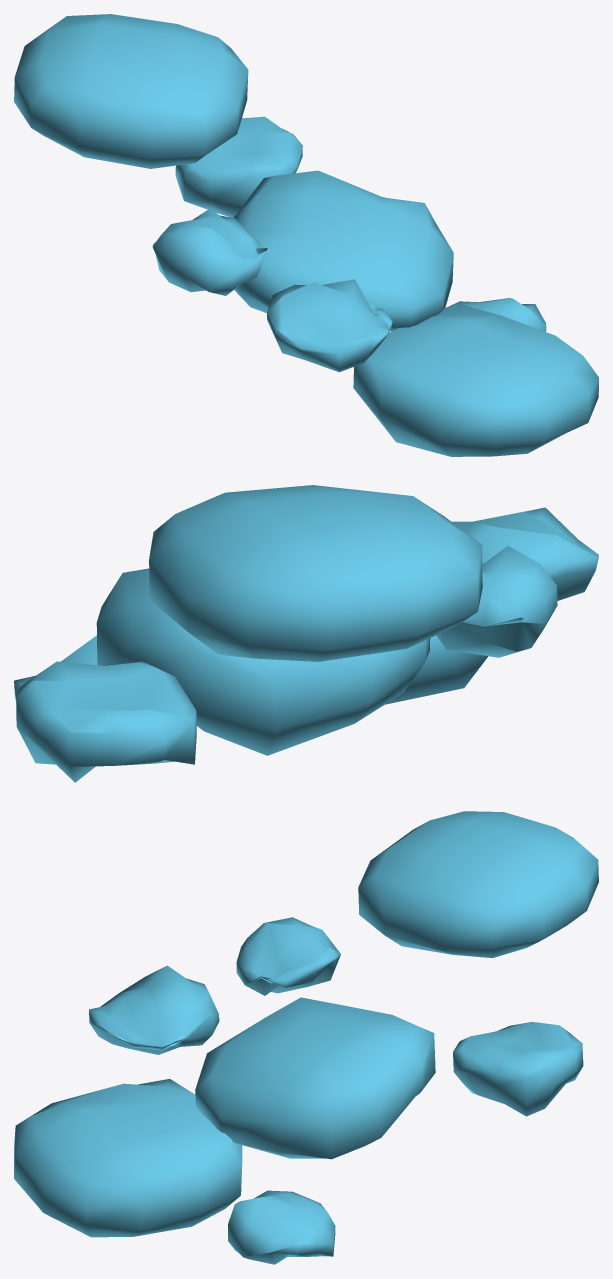
The model's file is TowerIslandSteppingStones.fbx.
The picture shows the model from 3 angles, top to bottom: view 1: azimuth 30°, elevation 25°; view 2: azimuth 150°, elevation 25°; view 3: azimuth 270°, elevation 25°; orthographic projection. The views are drawn at different scales.
Parts seen in each view (by area): view 1: Cube.003; view 2: Cube.003; view 3: Cube.003.
Part boxes in pixels (x1,y1,x2,y2): Cube.003: (14, 14, 598, 456); Cube.003: (14, 485, 598, 782); Cube.003: (14, 811, 598, 1264).
Size of the model in its own units: 78.3 by 54.36 by 98.34.
